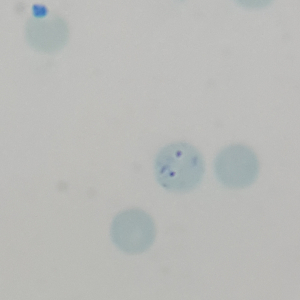erythrocyte: (152, 140, 206, 194), (21, 2, 73, 56), (108, 206, 158, 256), (214, 143, 261, 191)
